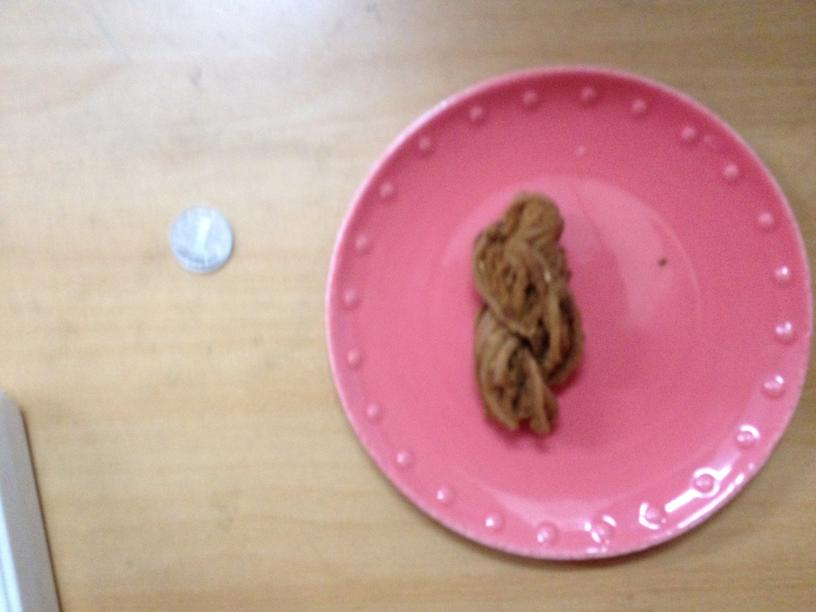coin: (164, 207, 235, 271)
fired_dough_twist: (464, 191, 577, 436)
